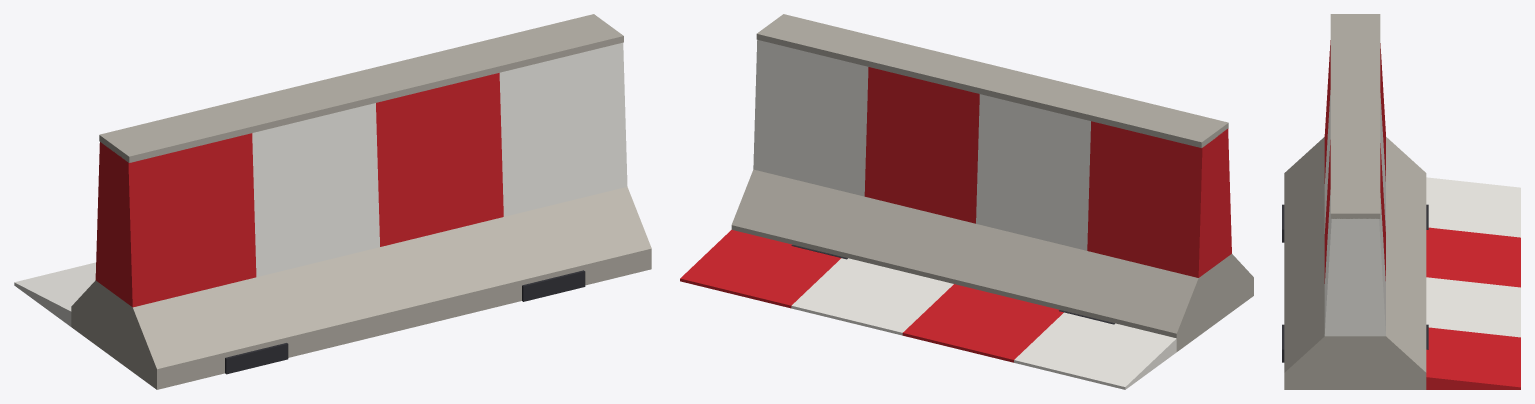
File: barrier.glb
3 renders of one model, left to right at view 1: azimuth 30°, elevation 25°; view 2: azimuth 150°, elevation 25°; view 3: azimuth 270°, elevation 25°, orthographic. The views are drawn at different scales.
Parts seen in each view (by area): view 1: barrier; view 2: barrier; view 3: barrier.
Boxes of the visible parts, left/top/right/bottom form: barrier: left=14, top=14, right=651, bottom=389; barrier: left=680, top=14, right=1253, bottom=389; barrier: left=1282, top=14, right=1520, bottom=389.
Bounding box in the file's own units: 2 × 0.8225 × 1.01.
